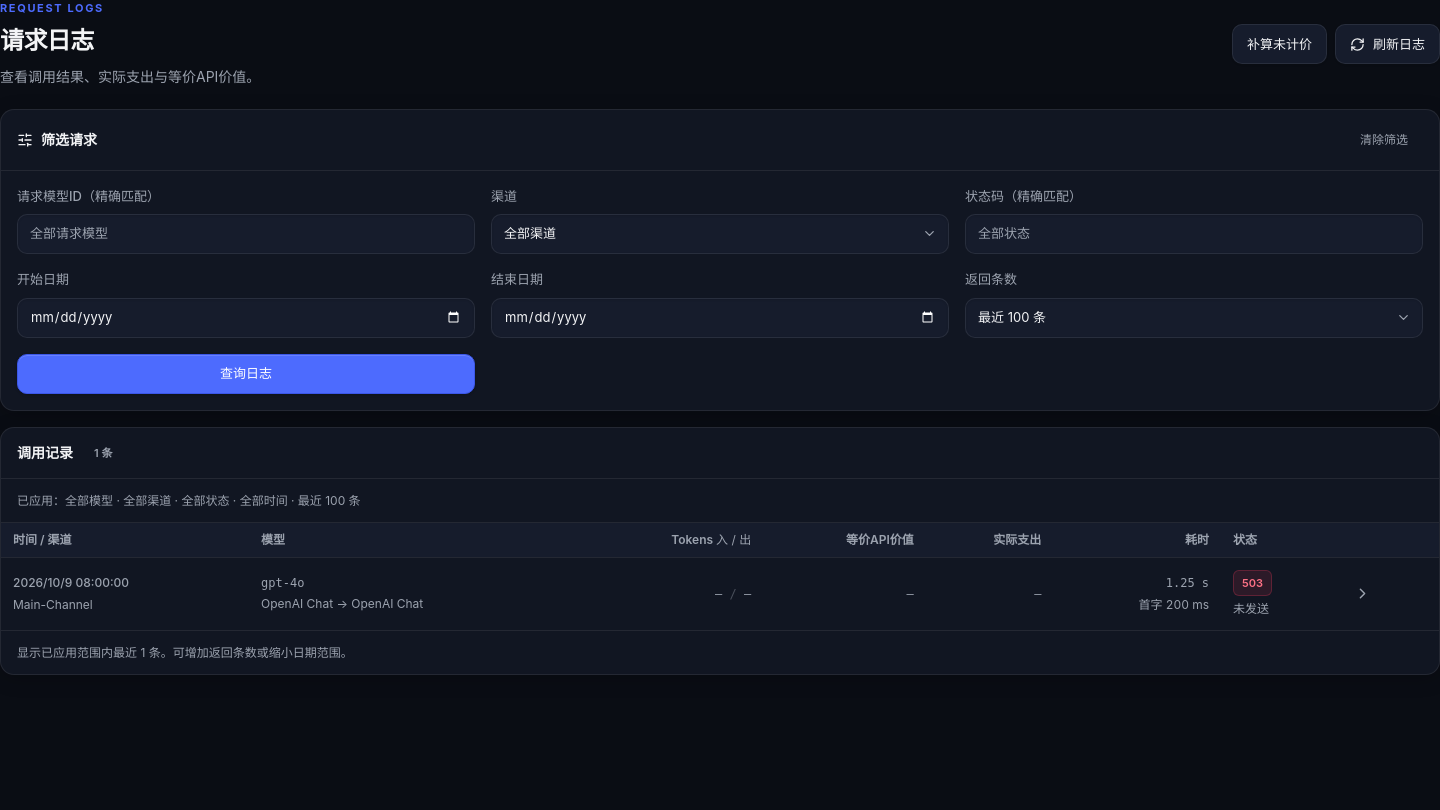
marks not-sent records without zero token or price claims in list and detail
Expected: the cell "— / —" is shown, [579,557,763,630]
Expected: the 1st cell "—" is shown, [763,557,926,630]
Click the button named "查看请求 101 详情": coordinates (1363, 594) [1345,576,1381,612]
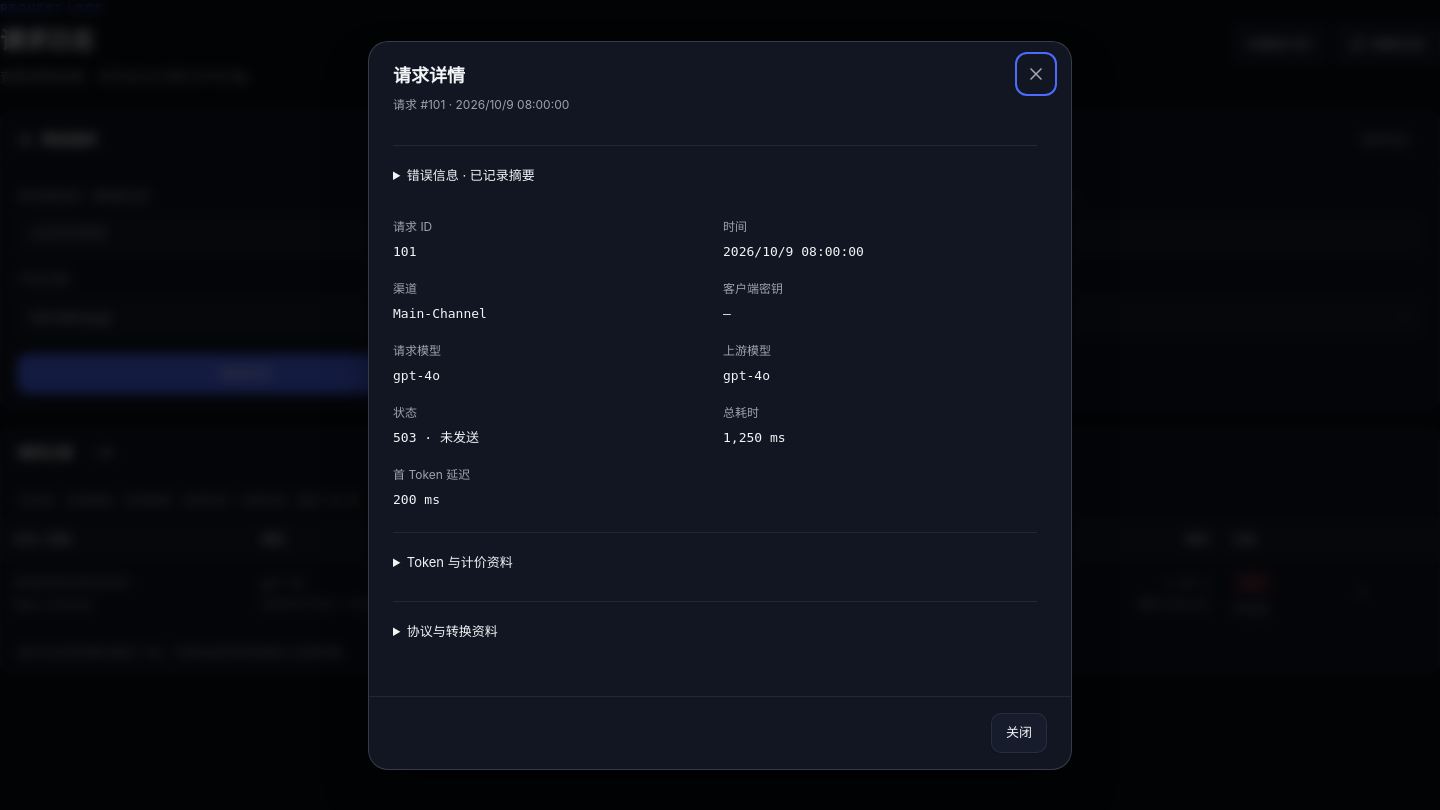
Expected: the text "503 · 未发送" is shown, [393,430,479,444]
